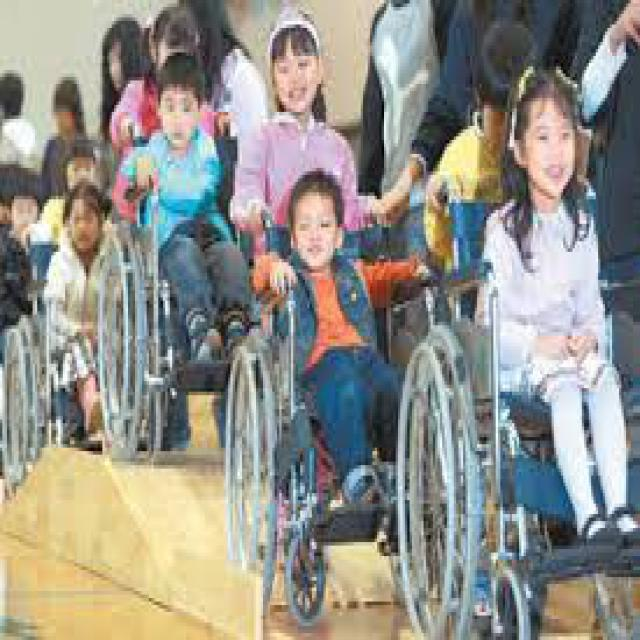wheelchairs: (421, 196, 638, 636), (230, 195, 433, 616), (93, 160, 240, 458)
